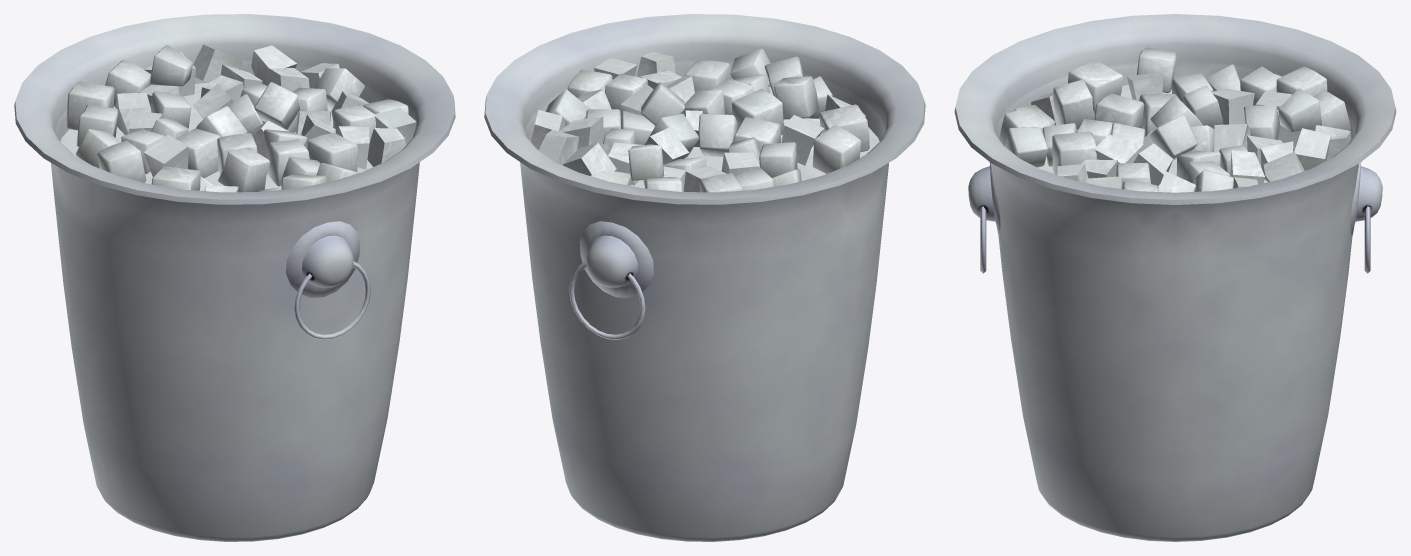
Rendered from IceBucket01_2_1.FBX.
3 views of the same model, side by side, from view 1: azimuth 30°, elevation 25°; view 2: azimuth 150°, elevation 25°; view 3: azimuth 270°, elevation 25° (orthographic).
Visible parts, largest first — view 1: IceBucket02_1; view 2: IceBucket02_1; view 3: IceBucket02_1.
Part boxes in pixels (x1,y1,x2,y2): IceBucket02_1: (14,14,455,541); IceBucket02_1: (484,14,925,541); IceBucket02_1: (954,14,1396,541).
Bounding box in the file's own units: 24.7 × 24.12 × 24.7.
